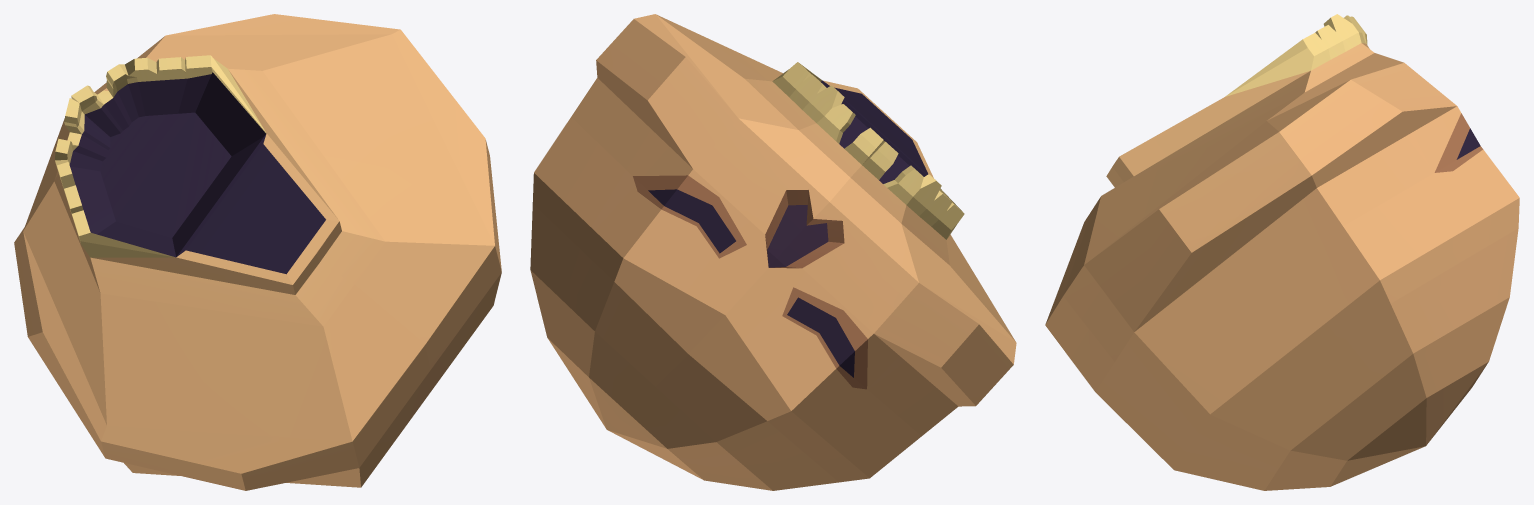
Rendered from UniquePotatoes.002.fbx.
The picture shows the model from 3 angles, left to right: view 1: azimuth 30°, elevation 25°; view 2: azimuth 150°, elevation 25°; view 3: azimuth 270°, elevation 25°; orthographic projection. The views are drawn at different scales.
Visible parts, largest first — view 1: UniquePotatoes.002; view 2: UniquePotatoes.002; view 3: UniquePotatoes.002.
Part boxes in pixels (x1=…): UniquePotatoes.002: x1=14, y1=14, x2=501, y2=490; UniquePotatoes.002: x1=530, y1=14, x2=1016, y2=490; UniquePotatoes.002: x1=1045, y1=14, x2=1519, y2=490.
Bounding box in the file's own units: 82.74 × 79.78 × 85.53.
